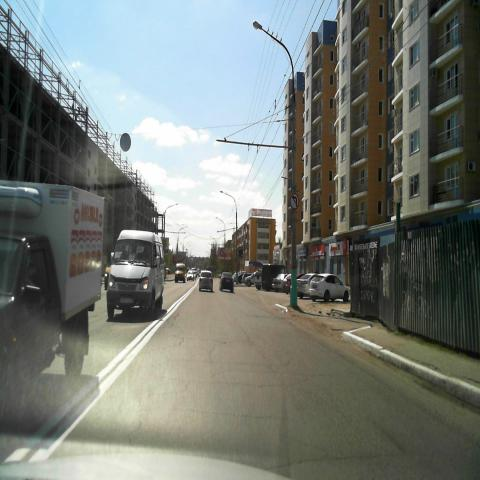3_18_2: (290, 192, 300, 210)
